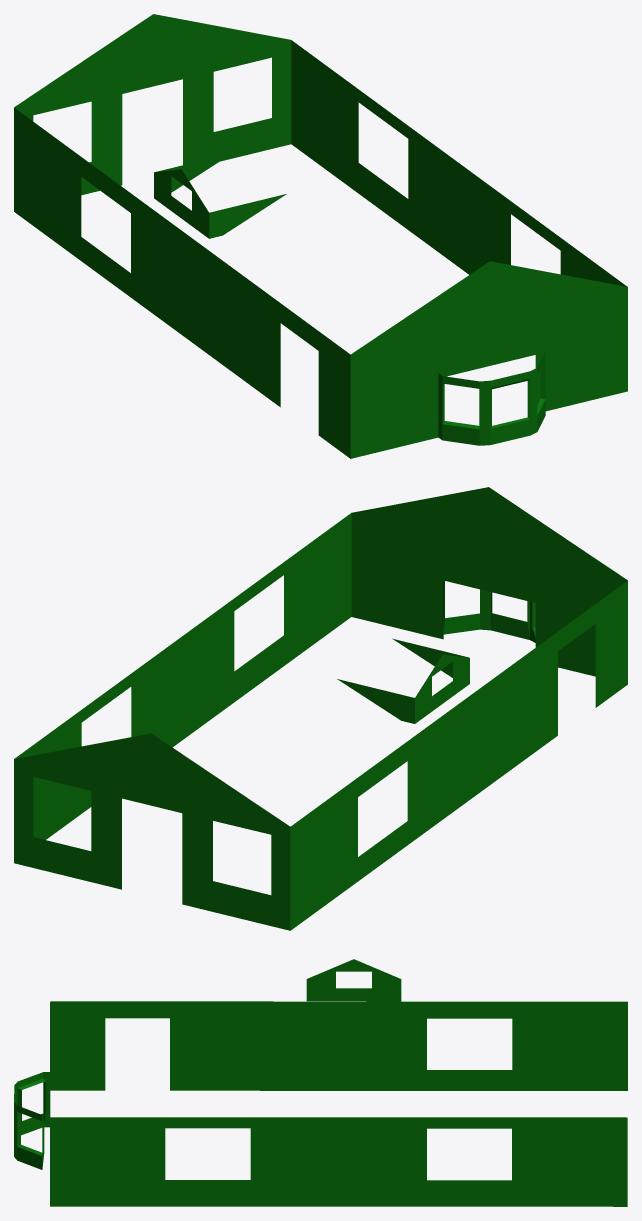
File: casa4.obj
3 renders of one model, top to bottom at view 1: azimuth 30°, elevation 25°; view 2: azimuth 150°, elevation 25°; view 3: azimuth 270°, elevation 25°, orthographic. The views are drawn at different scales.
Visible parts, largest first — view 1: Cube.032; view 2: Cube.032; view 3: Cube.032.
Part boxes in pixels (x1,y1,x2,y2): Cube.032: [14, 14, 627, 458]; Cube.032: [14, 487, 627, 930]; Cube.032: [14, 959, 627, 1206].
Size of the model in its own units: 10.81 by 6.09 by 24.17.
